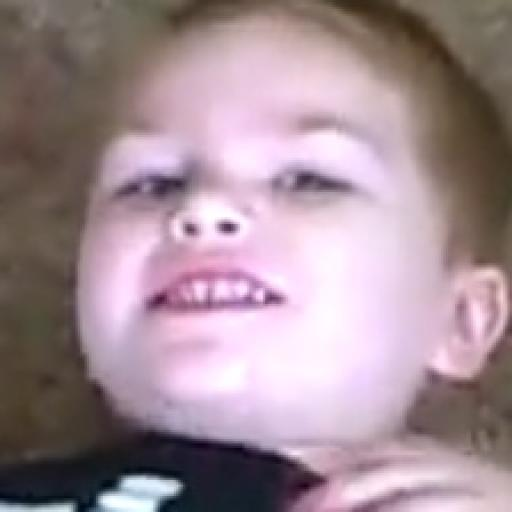Autism: (105, 12, 493, 458)
